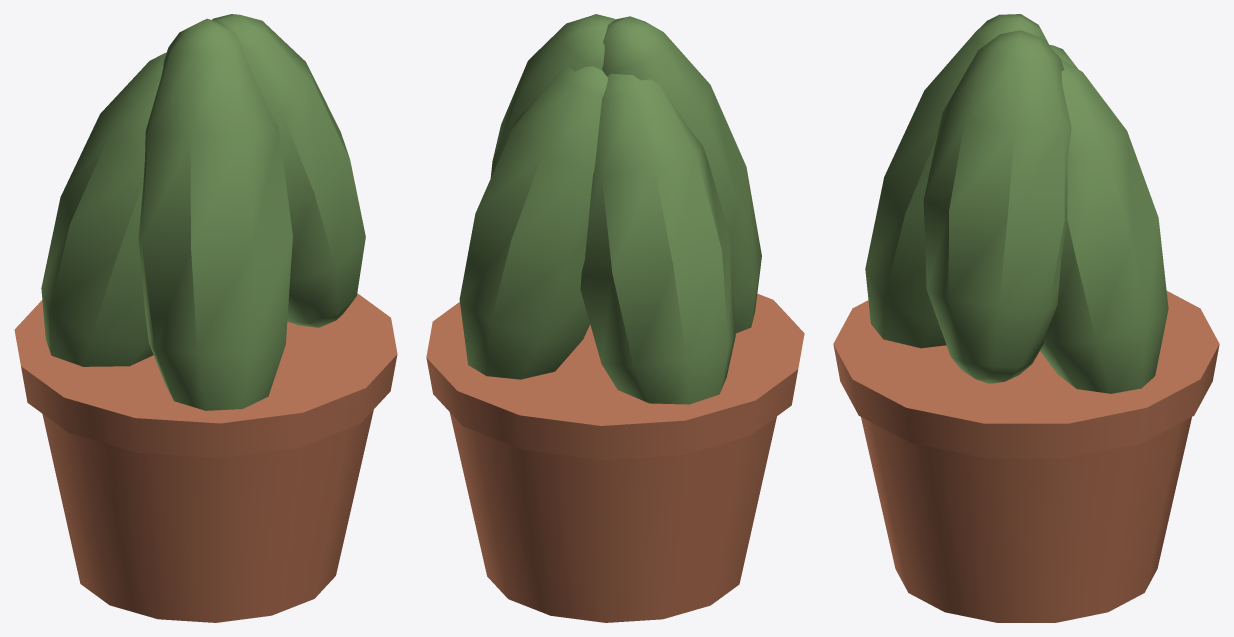
Rendered from matera.fbx.
3 views of the same model, side by side, from view 1: azimuth 30°, elevation 25°; view 2: azimuth 150°, elevation 25°; view 3: azimuth 270°, elevation 25° (orthographic).
Parts seen in each view (by area): view 1: potLeaf_6F9158_02, pot, pot_02, potLeaf_6F9158_03, potLeaf_6F9158; view 2: pot, potLeaf_6F9158_03, potLeaf_6F9158_04, pot_02, potLeaf_6F9158_02, potLeaf_6F9158; view 3: pot, potLeaf_6F9158, pot_02, potLeaf_6F9158_04, potLeaf_6F9158_02.
Boxes of the visible parts, box(x1,y1,x2,y2) form: potLeaf_6F9158_02: box(138, 18, 292, 410); pot: box(42, 409, 373, 622); pot_02: box(14, 293, 397, 458); potLeaf_6F9158_03: box(41, 52, 166, 366); potLeaf_6F9158: box(212, 14, 365, 327); pot: box(450, 413, 776, 622); potLeaf_6F9158_03: box(580, 73, 735, 404); potLeaf_6F9158_04: box(459, 66, 607, 379); pot_02: box(426, 293, 804, 460); potLeaf_6F9158_02: box(602, 16, 761, 333); potLeaf_6F9158: box(490, 14, 615, 177); pot: box(861, 417, 1191, 622); potLeaf_6F9158: box(923, 30, 1071, 383); pot_02: box(833, 291, 1219, 458); potLeaf_6F9158_04: box(1040, 59, 1168, 393); potLeaf_6F9158_02: box(865, 14, 1050, 348).
Bounding box in the file's own units: 0.546 × 0.8786 × 0.56.
